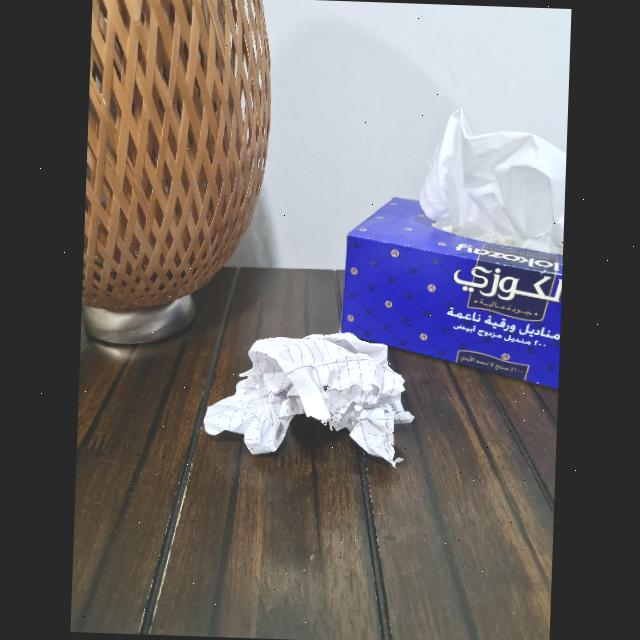trash: (202, 320, 411, 460)
